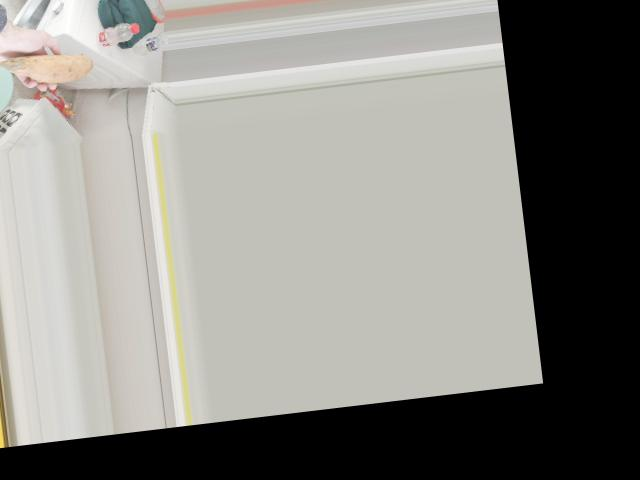sweet_potato: (5, 46, 85, 89)
